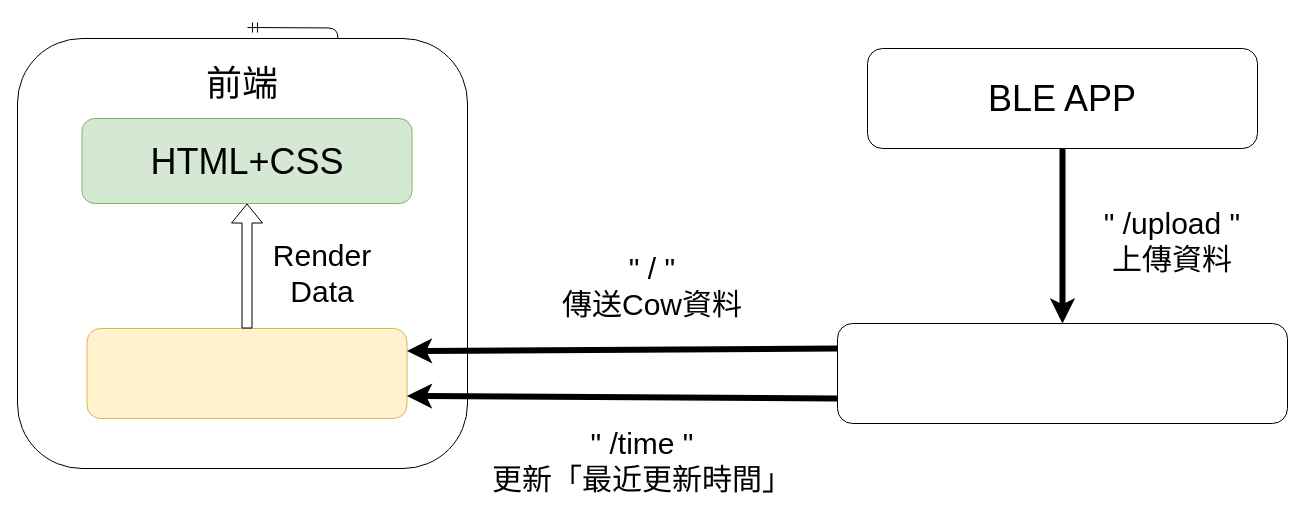
Some shapes in this 1305 by 521 pixel diagram are drawn without their labels. The box of each missing label's shape, as (x1, y1, x2, y2) in pixels:
Vue.JS: (86, 328, 407, 418)
後端: HTTP Server: (836, 322, 1288, 424)
